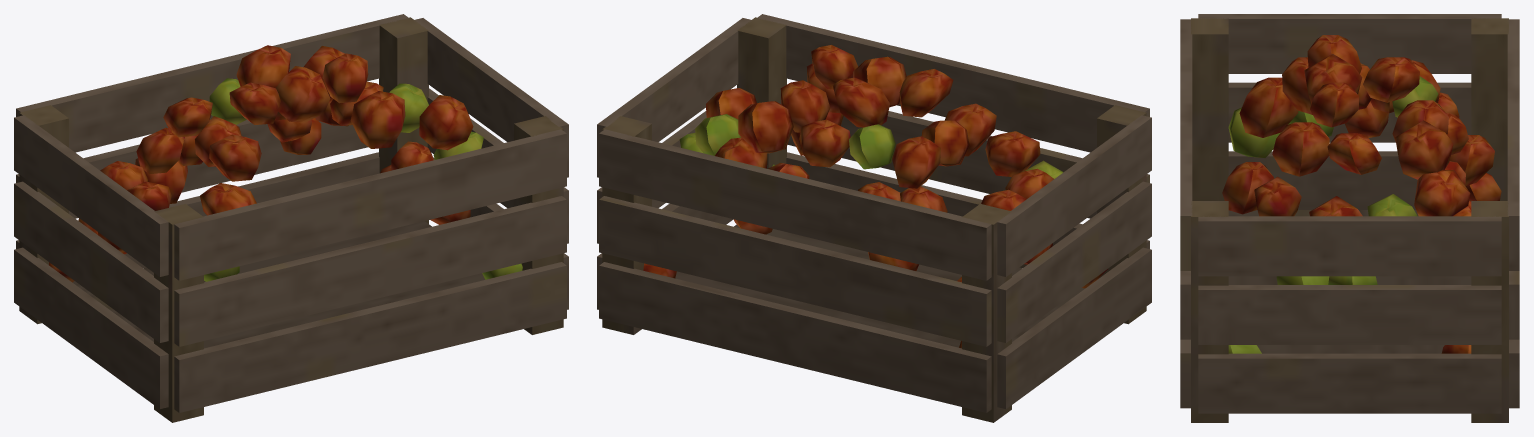
Rendered from produce_crate.glb.
The picture shows the model from 3 angles, left to right: view 1: azimuth 30°, elevation 25°; view 2: azimuth 150°, elevation 25°; view 3: azimuth 270°, elevation 25°; orthographic projection. The views are drawn at different scales.
Visible parts, largest first — view 1: crate_of_produce_mesh; view 2: crate_of_produce_mesh; view 3: crate_of_produce_mesh.
Part boxes in pixels (bbox=[...]): crate_of_produce_mesh: bbox=[14, 14, 568, 422]; crate_of_produce_mesh: bbox=[597, 14, 1151, 422]; crate_of_produce_mesh: bbox=[1180, 14, 1519, 422].
Bounding box in the file's own units: 0.648 × 0.3856 × 0.448.
Materials: 1 (1 with a texture image).
